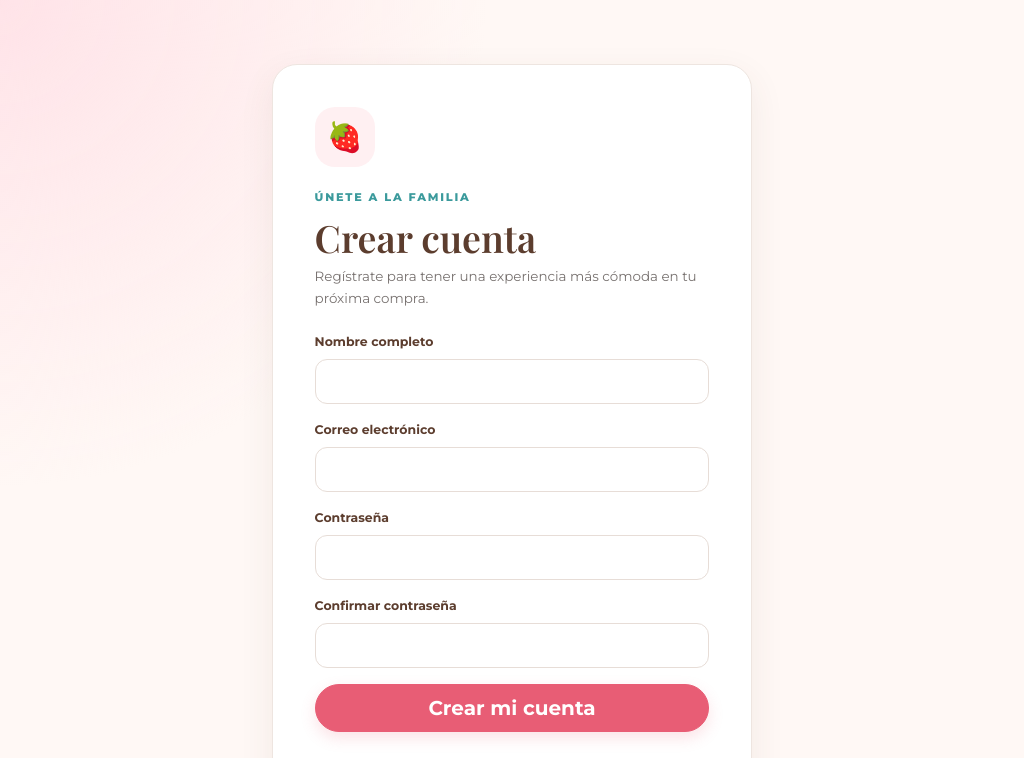
Página Register › muestra un error cuando las contraseñas no coinciden
The width and height of the screenshot is (1024, 758).
Type "Alex Soto" into the field labelled "Nombre completo".
click(512, 382); type("Alex Soto")  # box [315,359,709,404]
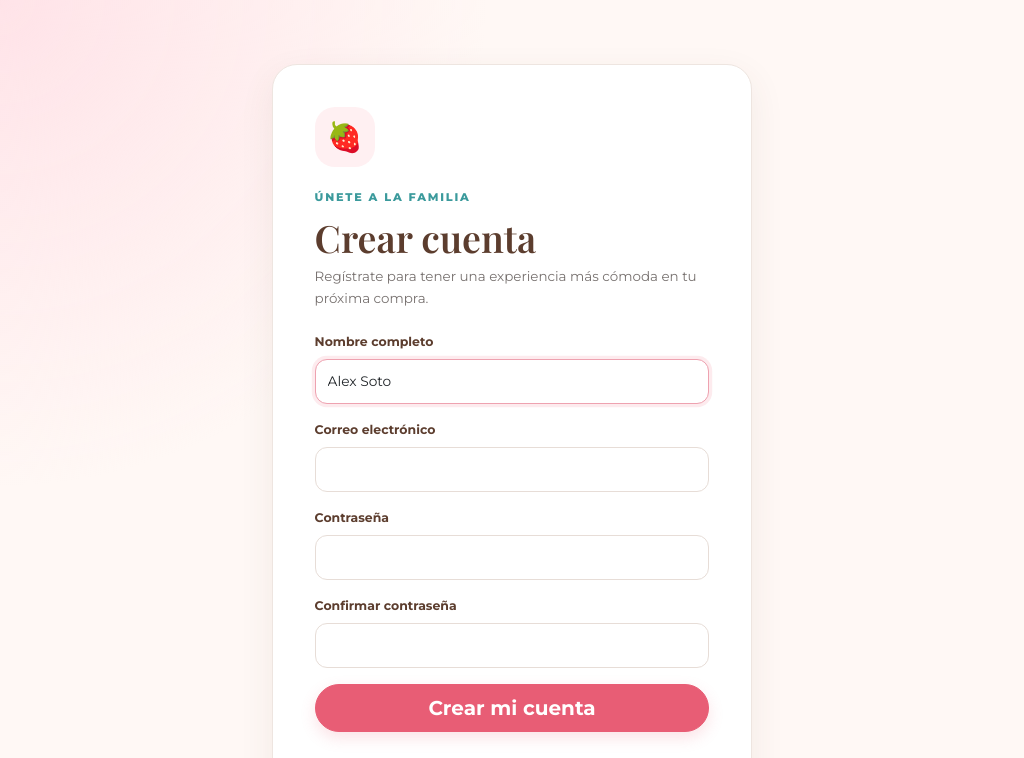
Type "alex@example.com" into the field labelled "Correo electrónico".
click(512, 470); type("alex@example.com")  # box [315,447,709,492]
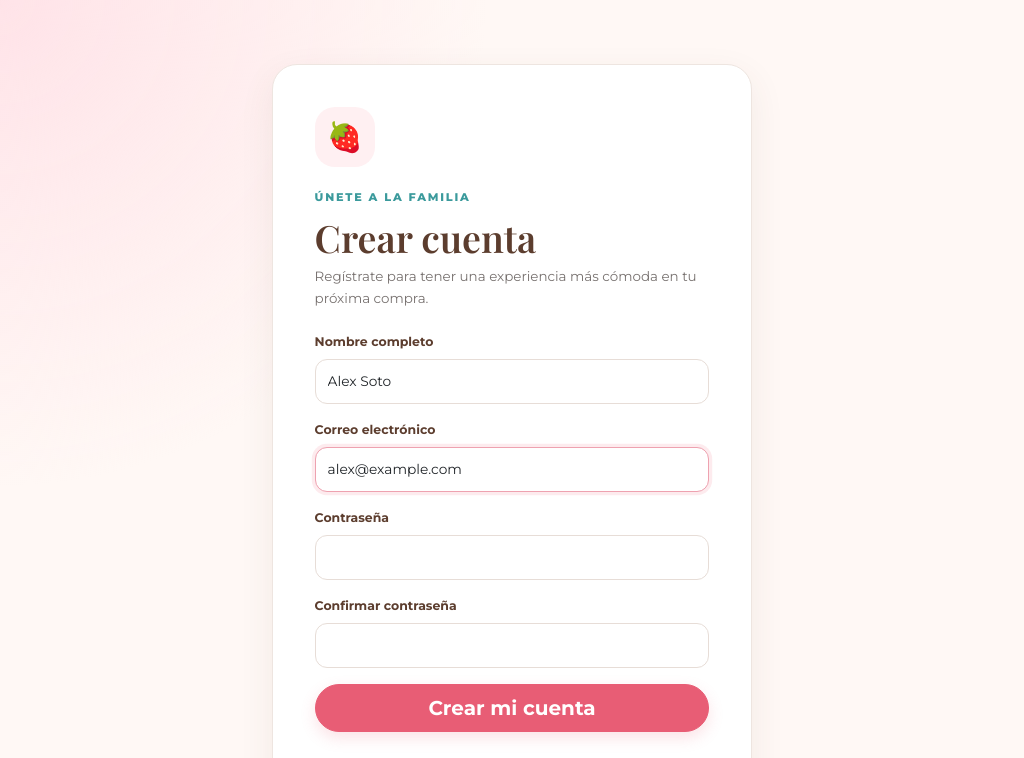
Type "clave1234" into the password field labelled "Contraseña".
click(512, 558); type("clave1234")  # box [315,535,709,580]
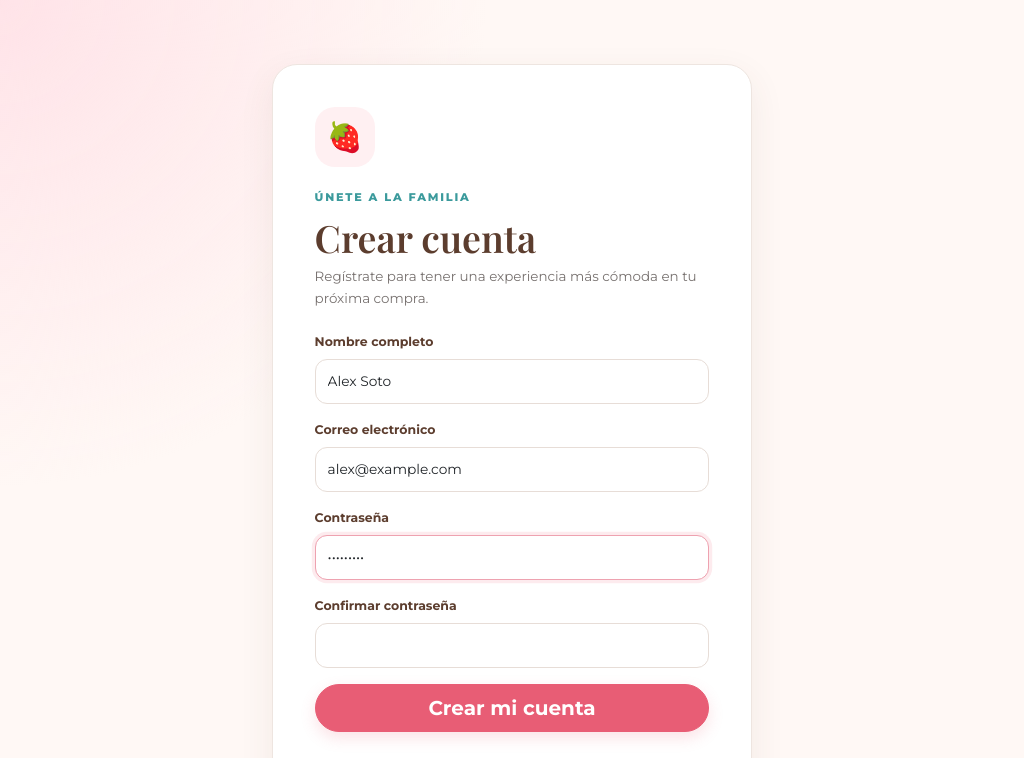
Type "otra1234" into the password field labelled "Confirmar contraseña".
click(512, 646); type("otra1234")  # box [315,623,709,668]
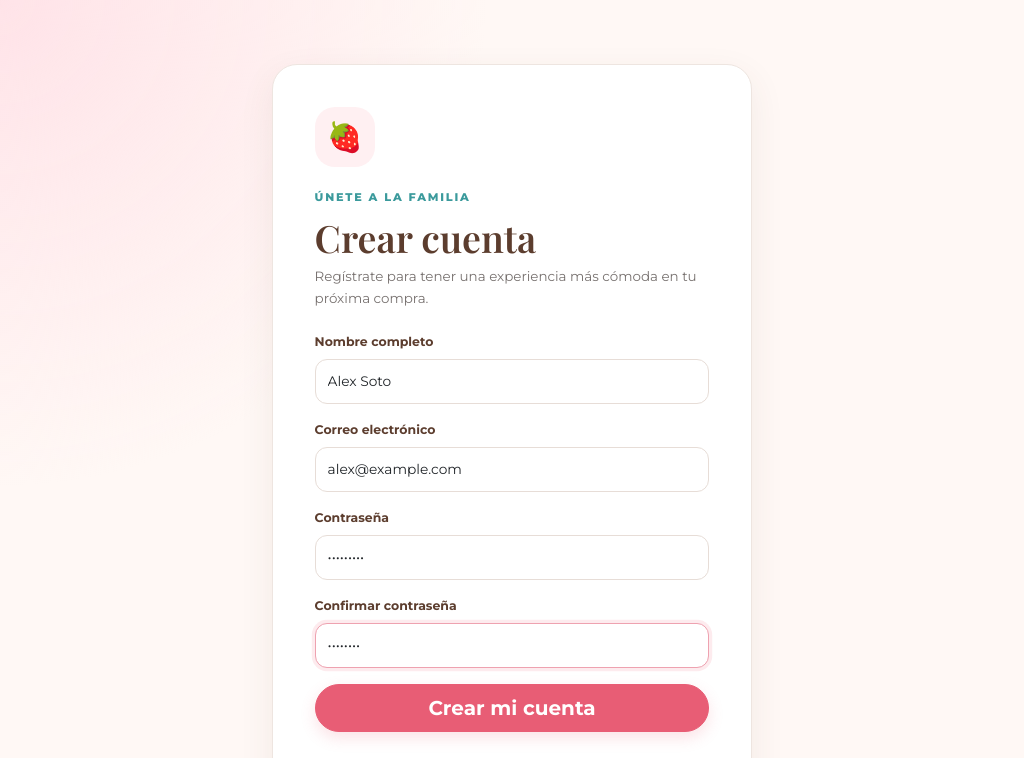
Click the button "Crear mi cuenta".
click(512, 708)  # box [315,684,709,732]
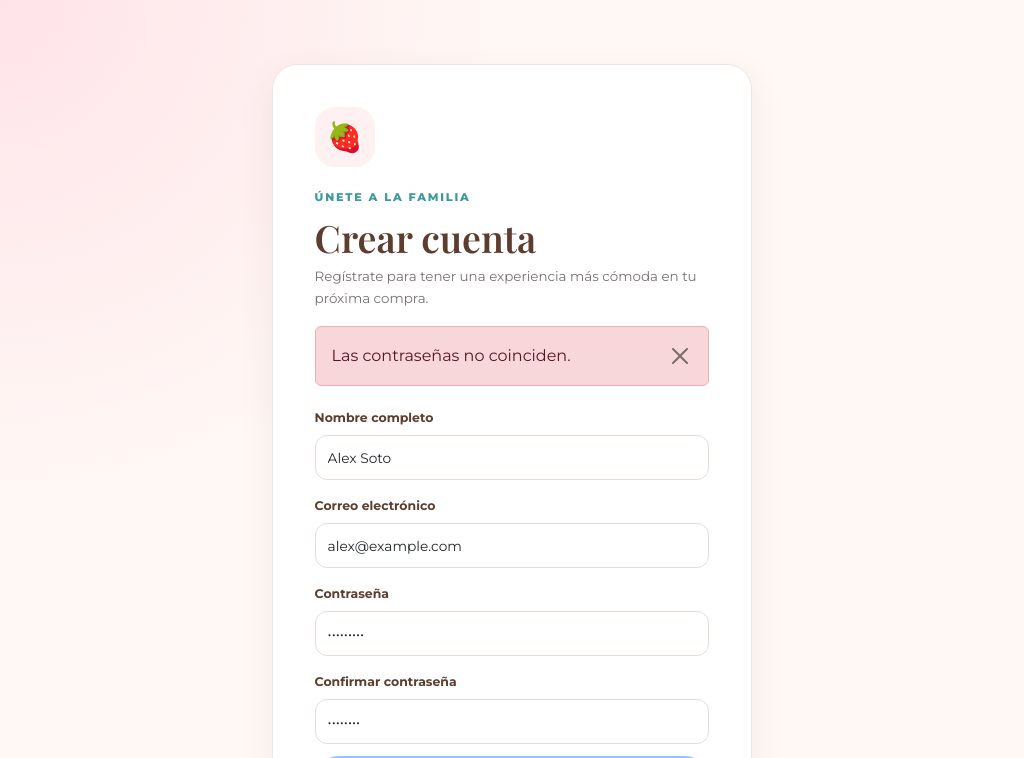
Expected: the message shows "Las contraseñas no coinciden", [332,346,571,365]
